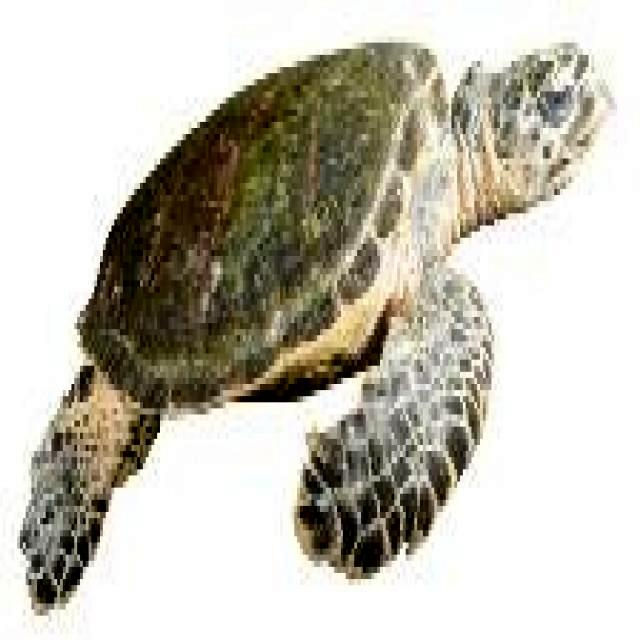Sea turtle: (23, 21, 613, 582)
